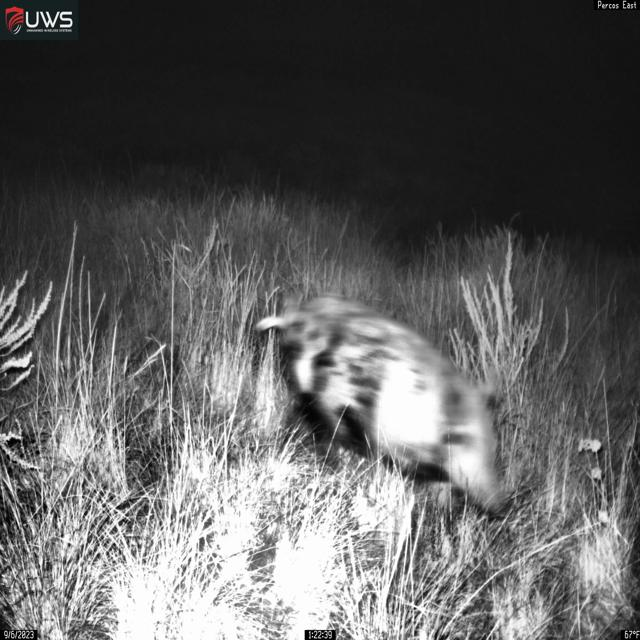pig: (254, 291, 511, 521)
